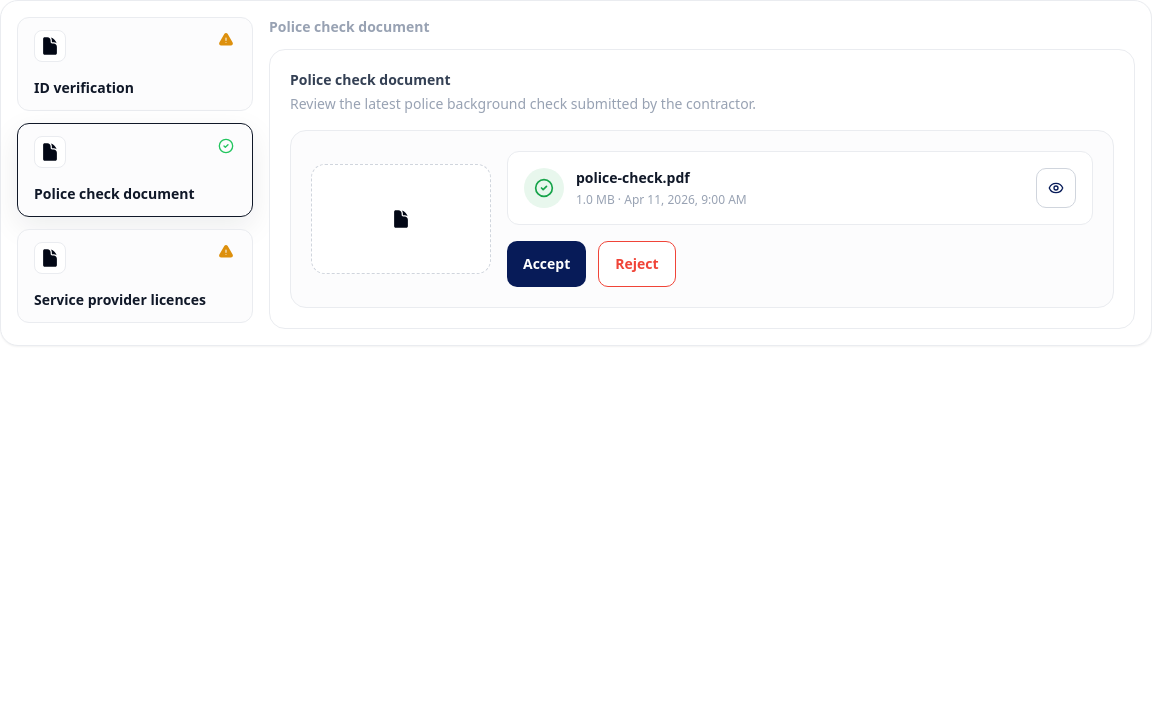
Scenario: ContractorKycTab (read-only review) › rejects a pending police document with reason capture
Expected: the text "police-check.pdf" is shown, [576,168,690,187]
Click the button "Reject": (637, 264) [598,241,676,287]
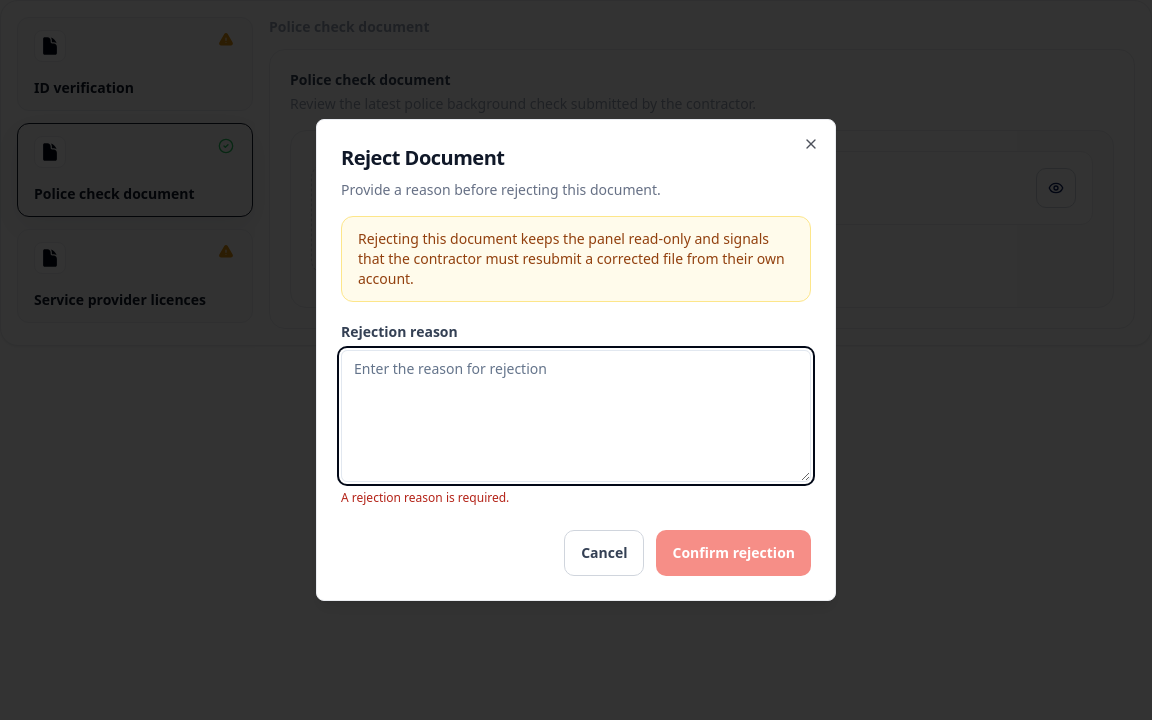
Result: the dialog "Reject Document" is shown at [316,119,836,601]
Result: the button "Confirm rejection" is disabled at [656,530,811,576]
In the text box named "Rejection reason": (576, 416) [341,350,811,482], type "Document is expired."
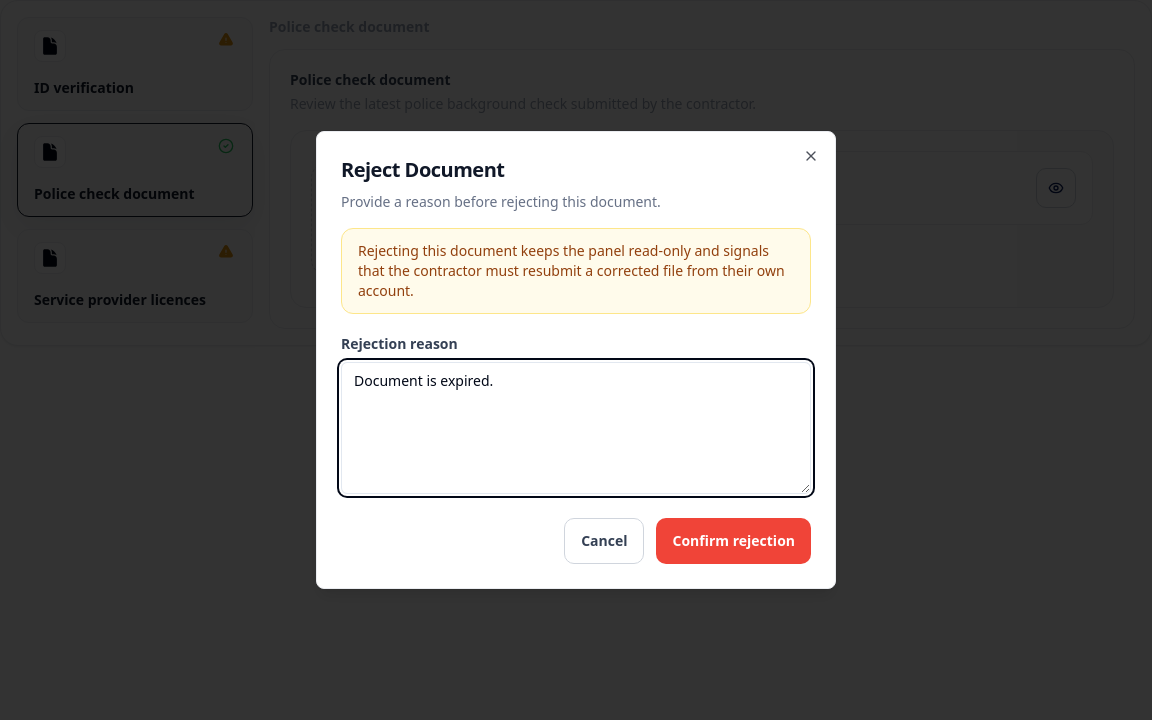
Click the button "Confirm rejection": (734, 541) [656,518,811,564]
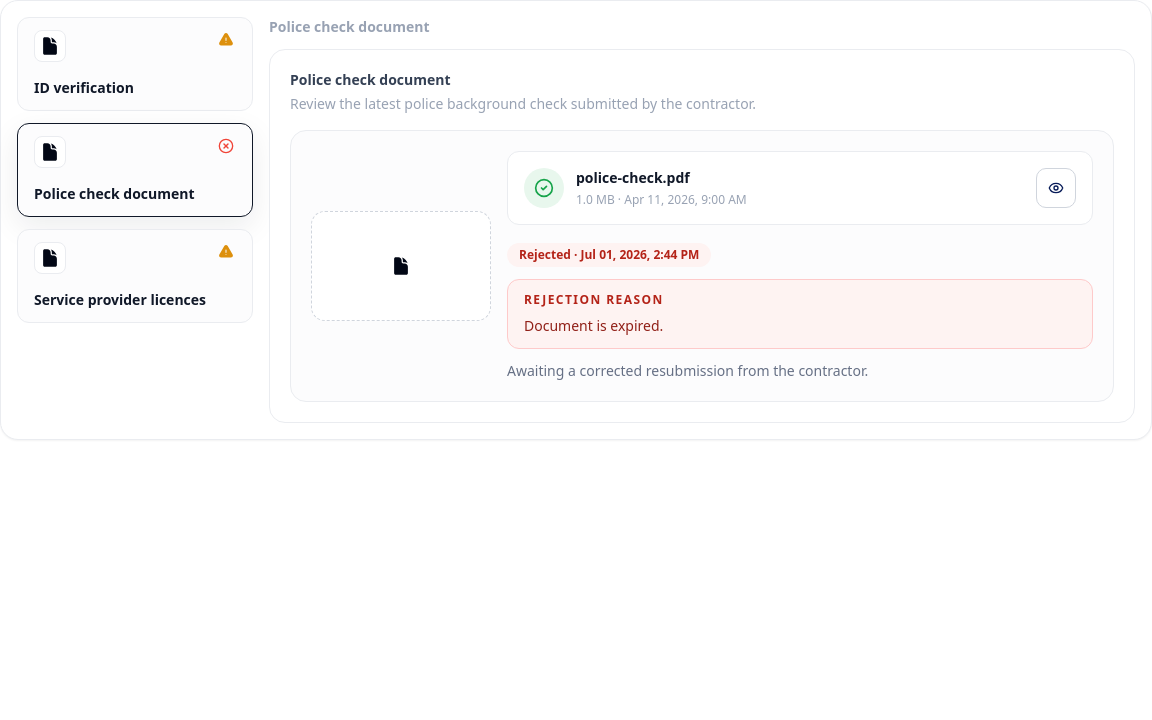
Result: the text "Rejected · Jul 01, 2026, 2:44 PM" is shown at [507,243,711,267]
Result: the text "Document is expired." is shown at [524,316,663,335]
Result: the text "Awaiting a corrected resubmission from the contractor." is shown at [507,361,868,380]
